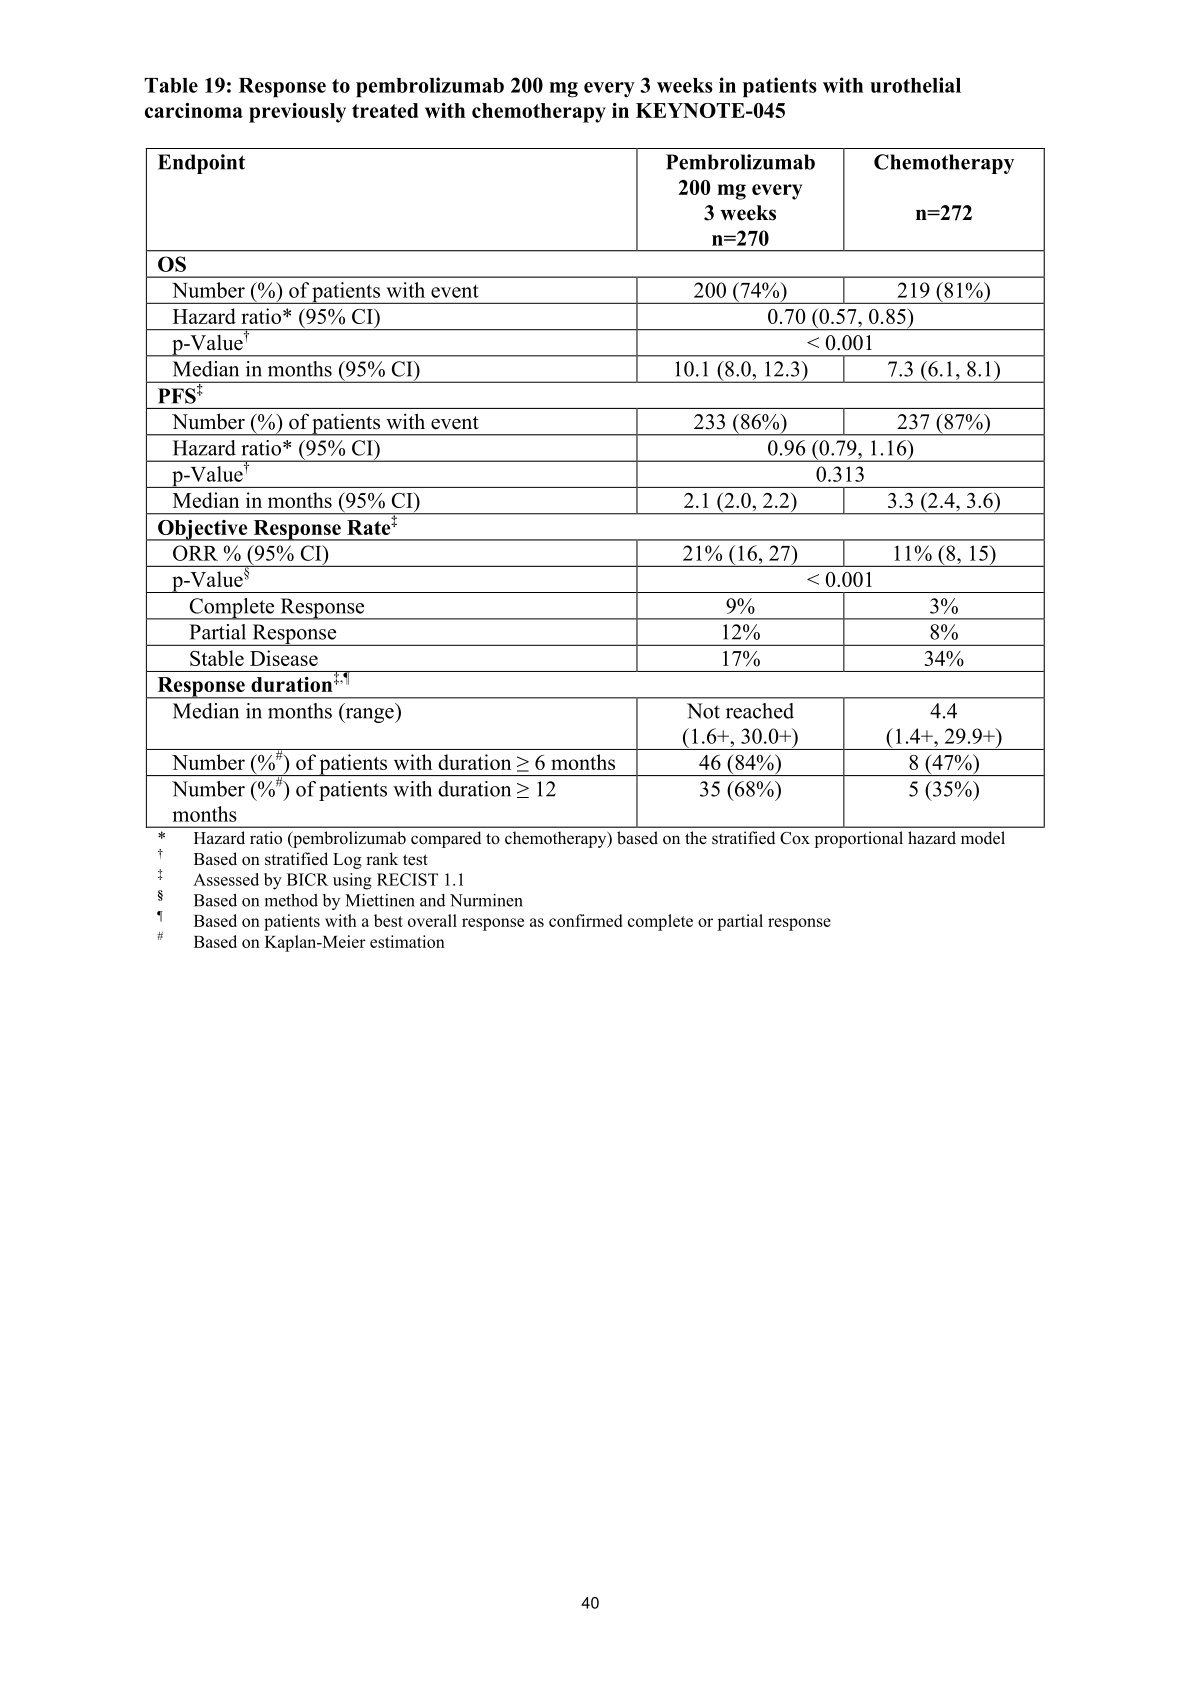merged_cells: (144, 146, 1047, 830)
